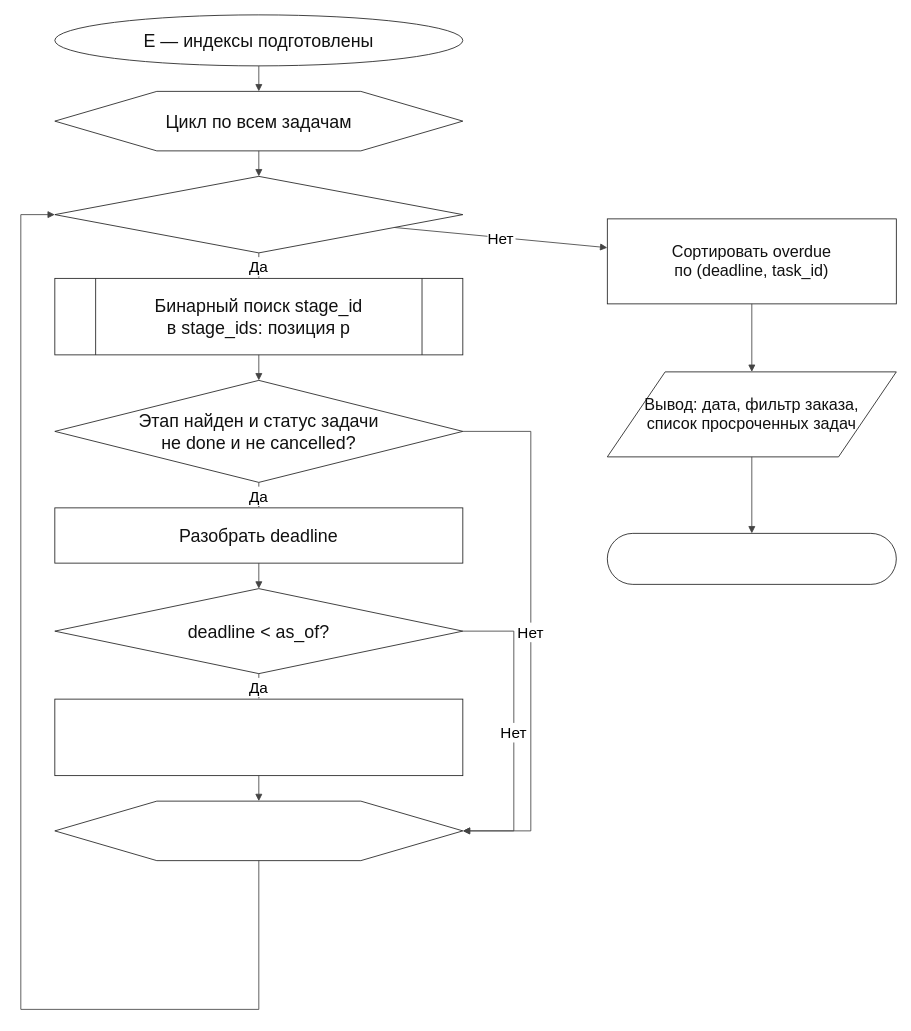
Some shapes in this 911 by 1031 pixel diagram are drawn without their labels. Here are the shapes that lost their labels. From the top down, the box of each, then its label:
(54, 176, 463, 253): Остались задачи?
(606, 533, 896, 584): Конец
(54, 698, 463, 776): Добавить задачу и days_overdue = as_of − deadline
(54, 800, 463, 861): Следующая задача
